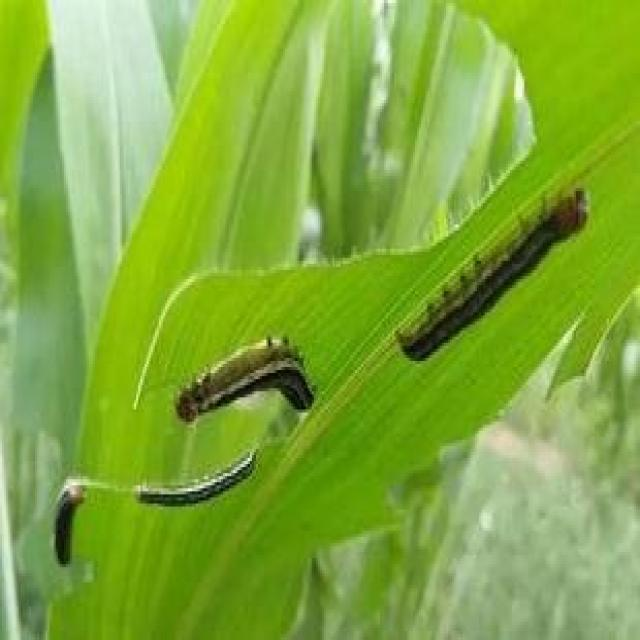army worm: (394, 174, 592, 362), (172, 335, 325, 426), (132, 439, 262, 509), (49, 474, 86, 571)
